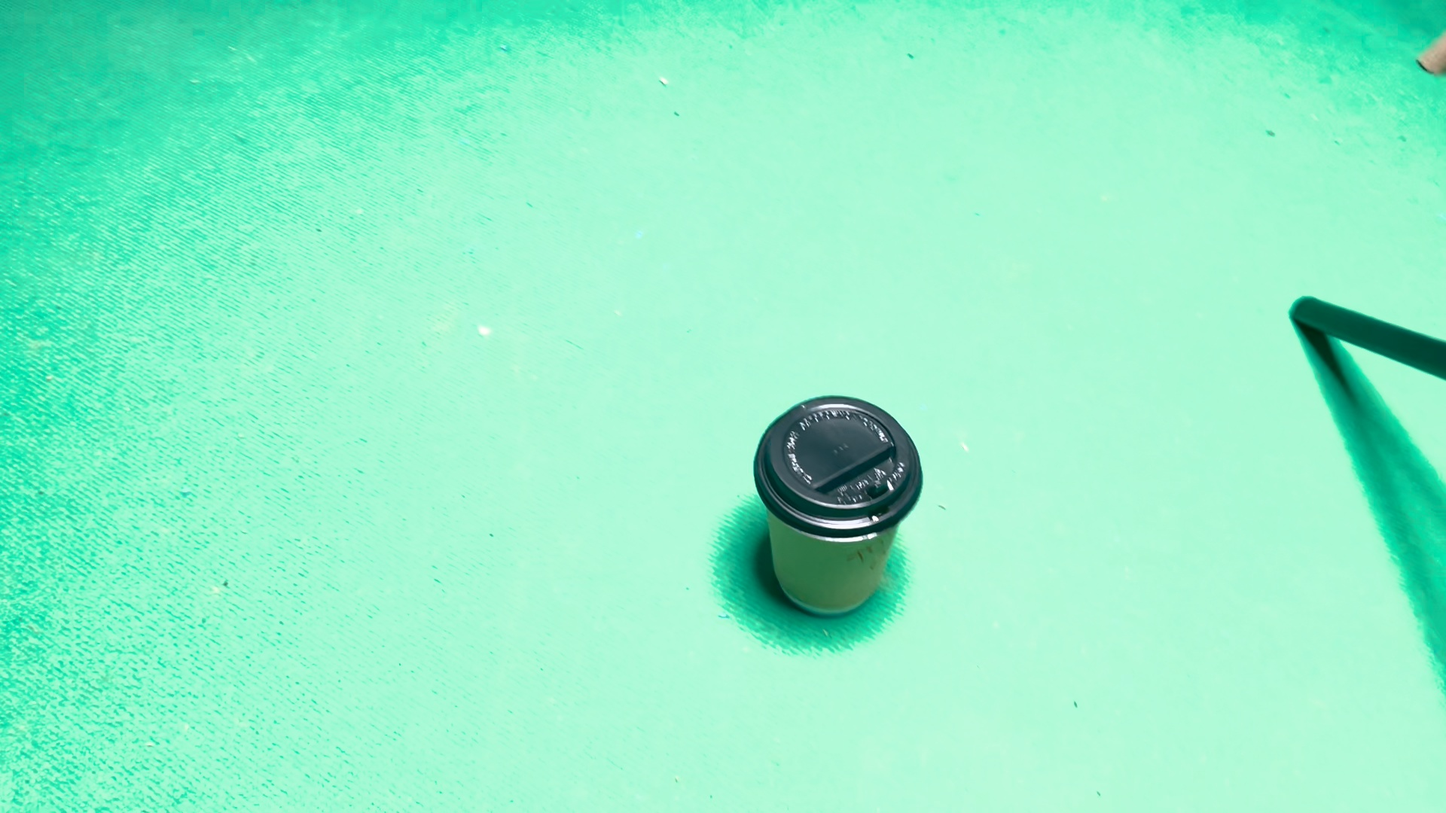cup: (728, 470, 830, 605)
